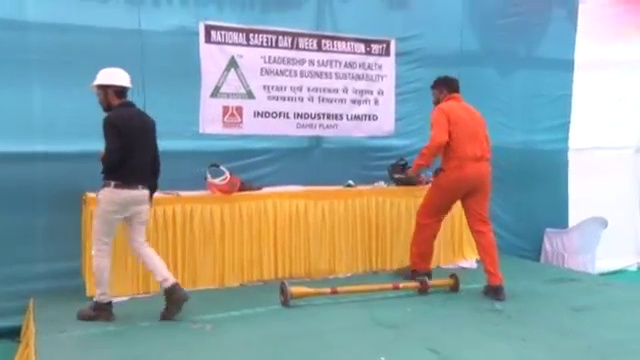helmet: (87, 66, 133, 92)
helmet_off: (429, 75, 460, 107)
helmet_on: (86, 67, 133, 115)
person: (84, 66, 185, 325), (415, 75, 507, 300)
